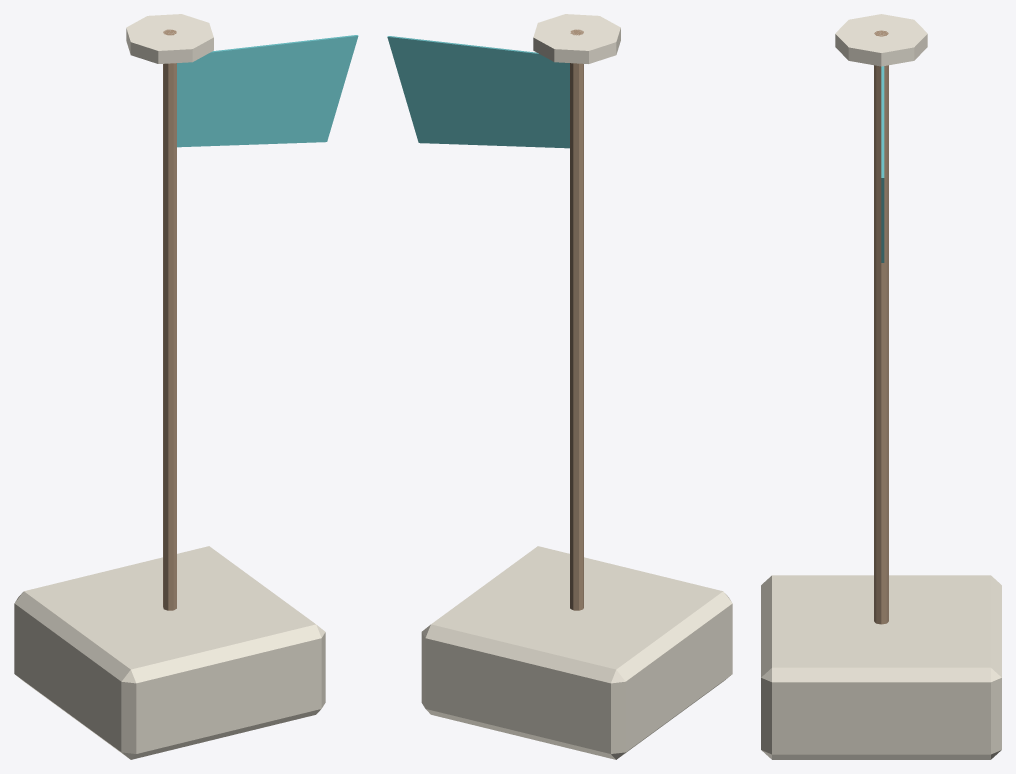
Rendered from customs_flagpole_near-D2dk3ITq.glb.
3 renders of one model, left to right at view 1: azimuth 30°, elevation 25°; view 2: azimuth 150°, elevation 25°; view 3: azimuth 270°, elevation 25°, orthographic. The views are drawn at different scales.
Parts seen in each view (by area): view 1: customs_flagpole_near; view 2: customs_flagpole_near; view 3: customs_flagpole_near.
Boxes of the visible parts, left/top/right/bottom form: customs_flagpole_near: left=14, top=14, right=358, bottom=759; customs_flagpole_near: left=387, top=14, right=732, bottom=759; customs_flagpole_near: left=761, top=14, right=1001, bottom=759.
Size of the model in its own units: 3.7 by 8.1 by 2.6.
